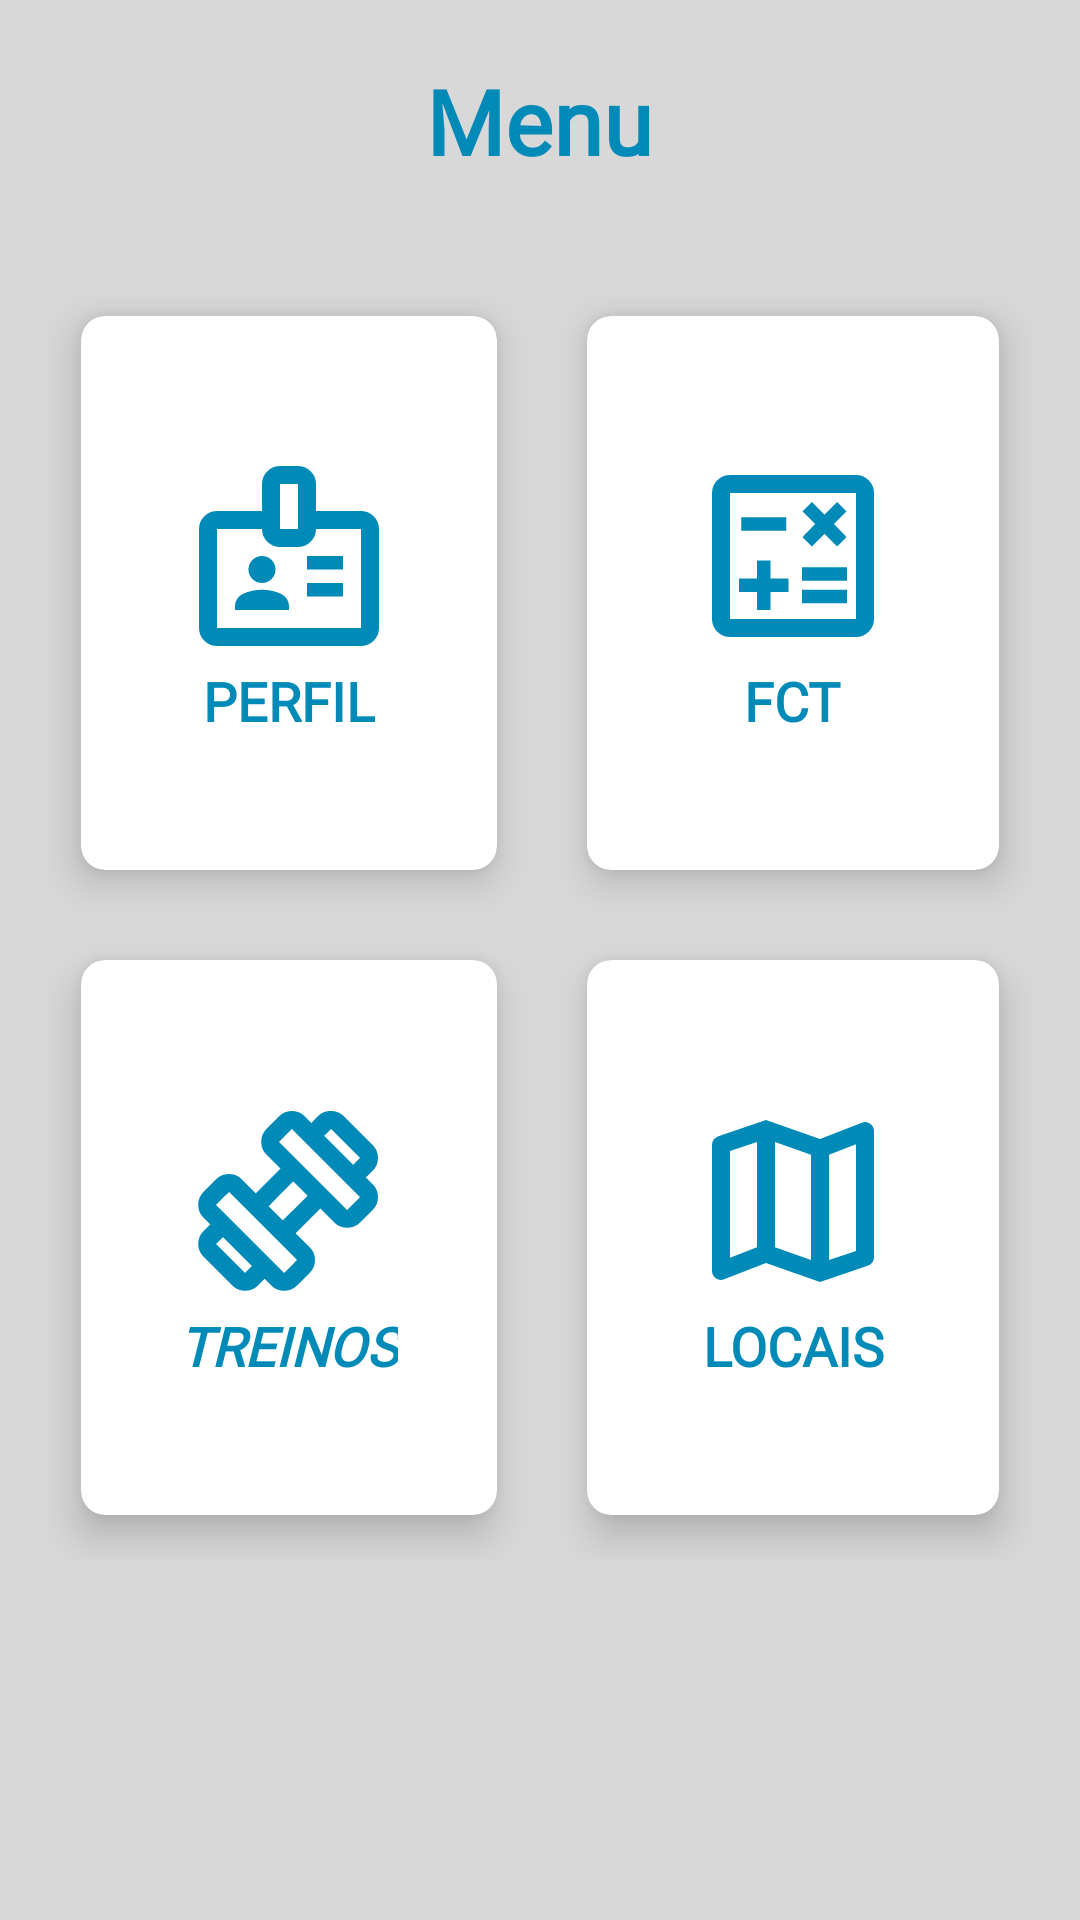

Named icons in this screenshot (1080*1920) and their bounding boxes, bbox=[x1, y1, x2, y2]:
calculate: bbox=[712, 475, 874, 637]
dumbell: bbox=[198, 1111, 378, 1291]
map: bbox=[712, 1120, 874, 1282]
